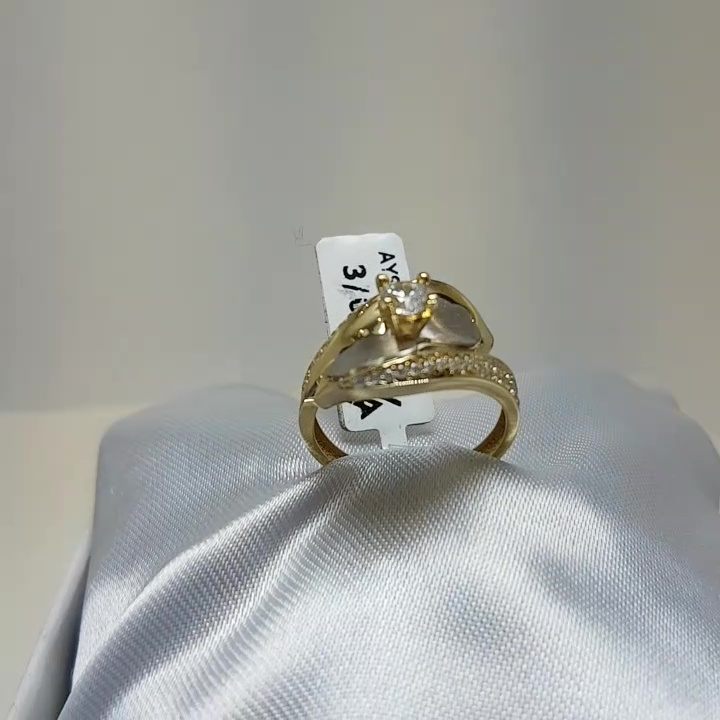Ring 6: (261, 272, 533, 477)
